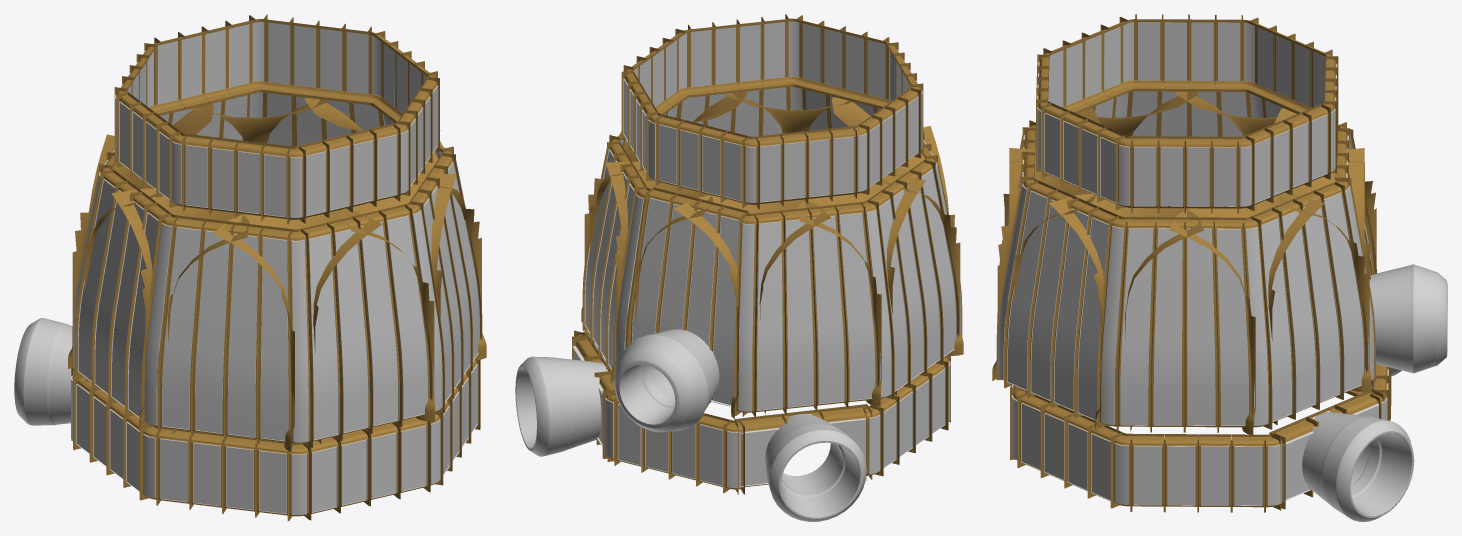
The model's file is TowerInterior8.fbx.
3 views of the same model, side by side, from view 1: azimuth 30°, elevation 25°; view 2: azimuth 150°, elevation 25°; view 3: azimuth 270°, elevation 25° (orthographic). The views are drawn at different scales.
Parts seen in each view (by area): view 1: Cube.042; view 2: Cube.042; view 3: Cube.042.
Part boxes in pixels (x1,y1,x2,y2): Cube.042: (14, 14, 486, 521); Cube.042: (515, 14, 963, 521); Cube.042: (992, 14, 1447, 521).
Bounding box in the file's own units: 10107 × 9618 × 10853.
